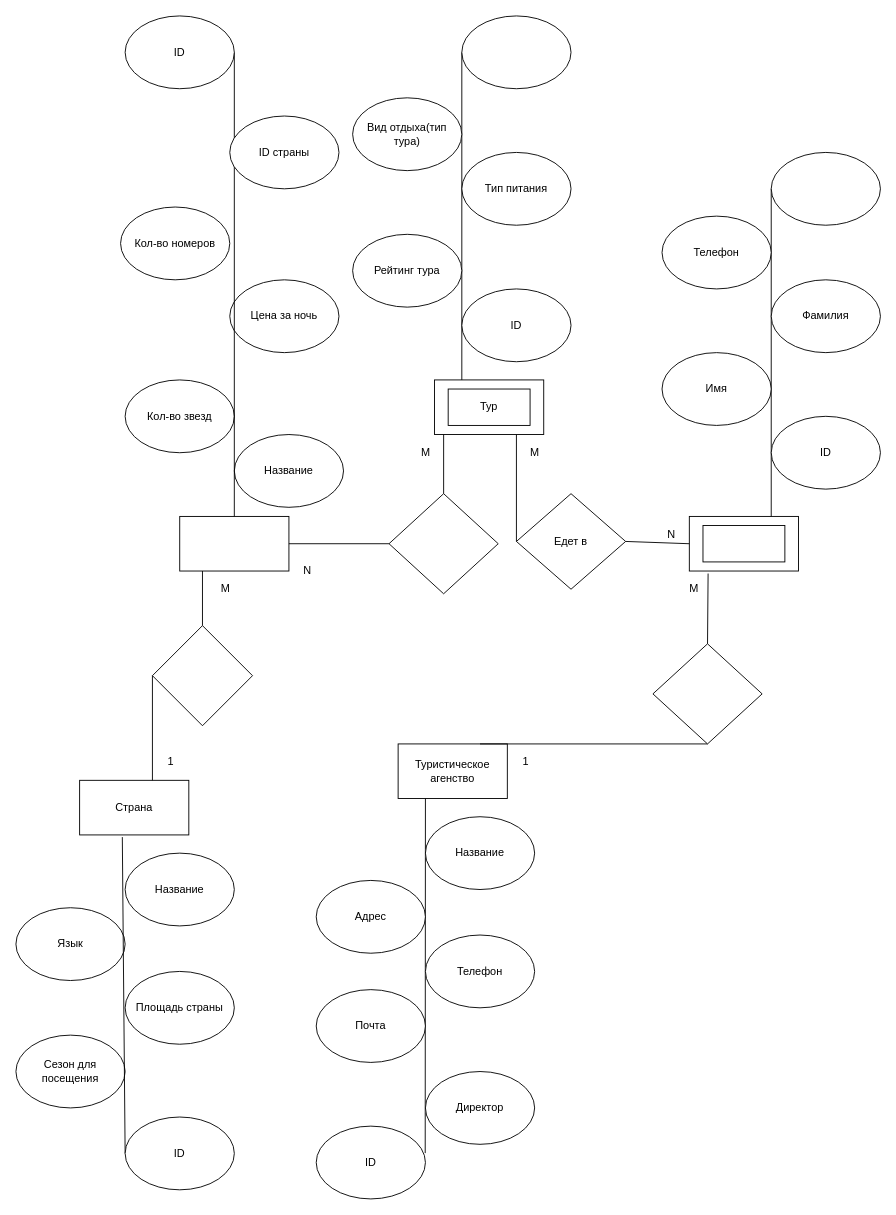
The diagram is 896 pixels wide and 1215 high, and some of its shapes have lost their labels. The shapes that lost their labels are listed below. From the top down, each one's centre as x and y in pixels, then its label:
At pixel 516 52: "Кол-во ночей".
At pixel 825 188: "ID турагенства".
At pixel 234 543: "Отель".
At pixel 443 543: "Отправляет в".
At pixel 743 543: "Клиент".
At pixel 202 675: "Находится в".
At pixel 707 693: "Состоит в".
